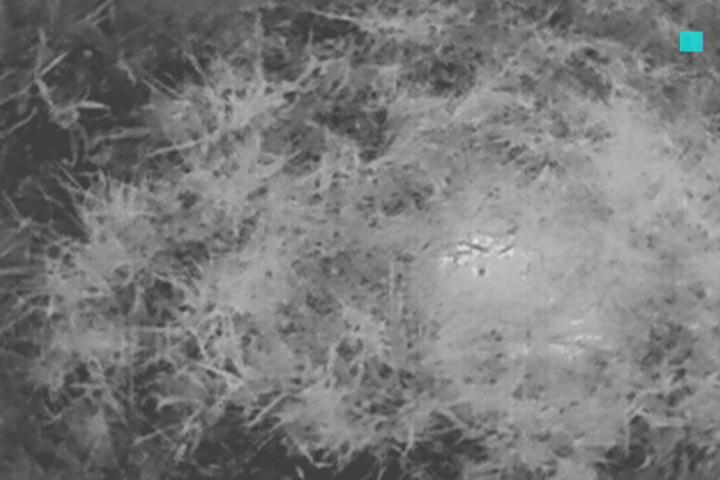landmine: (418, 217, 630, 371)
